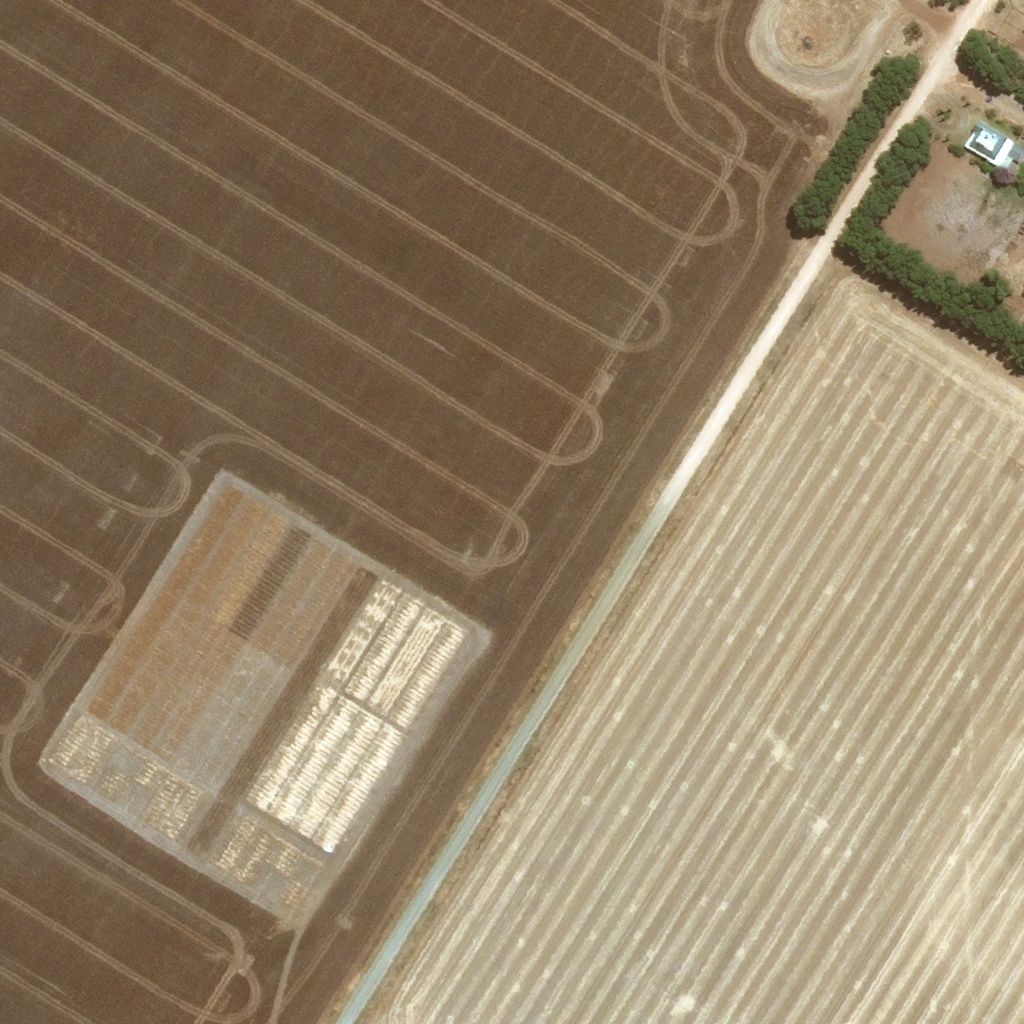0 no-damage: (962, 120, 1023, 168)
